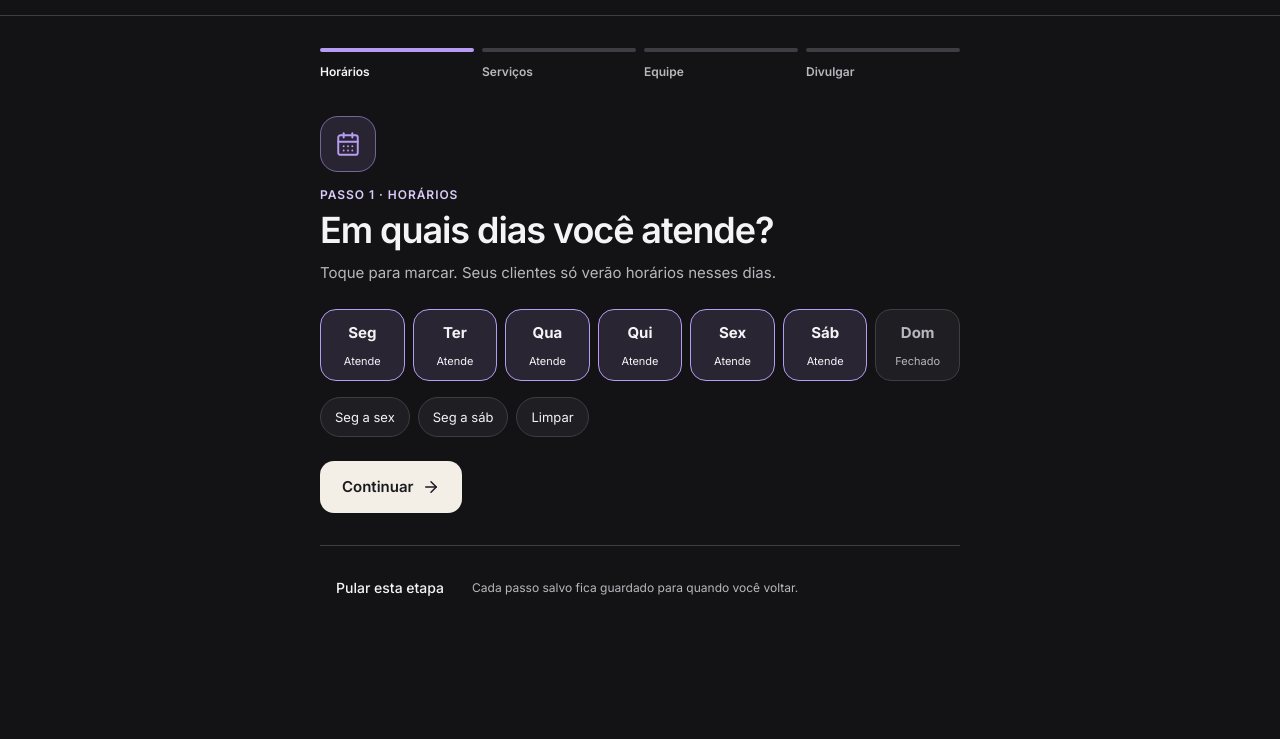
it: mantém os controles desabilitados enquanto aguarda a gravação
The image size is (1280, 739).
Click the button "Continuar": (391, 487) [320,461,462,513]
(page scrolled)
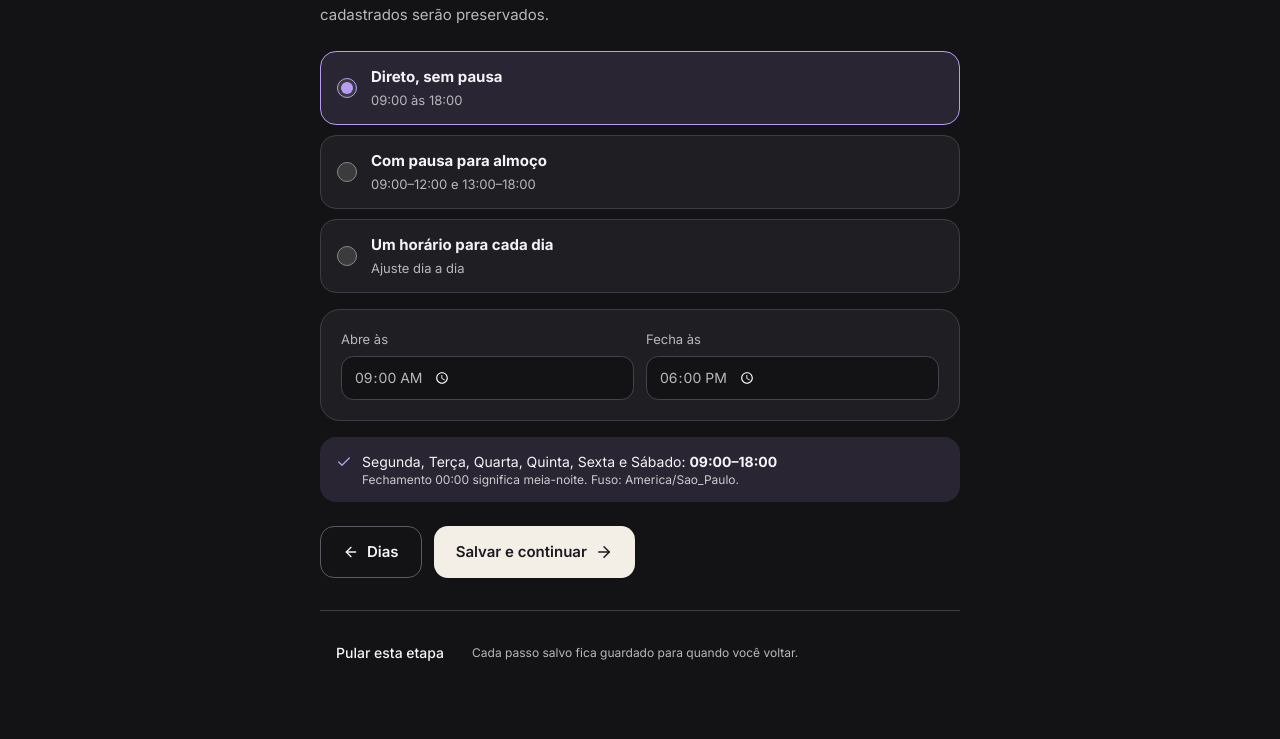
Click the button "Salvar e continuar": (534, 552) [434,526,635,578]
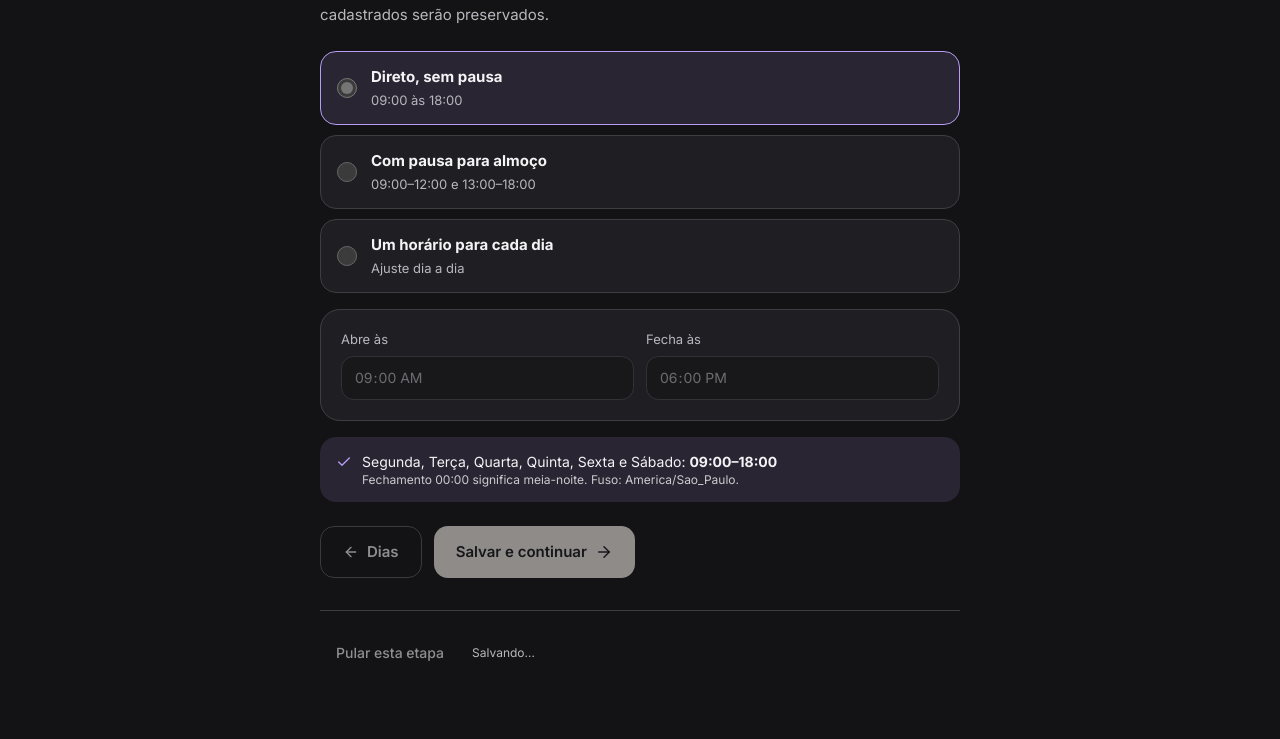
Check: the button "Salvar e continuar" is disabled
Click the button "Salvar e continuar": (534, 552) [434,526,635,578]
(page scrolled)
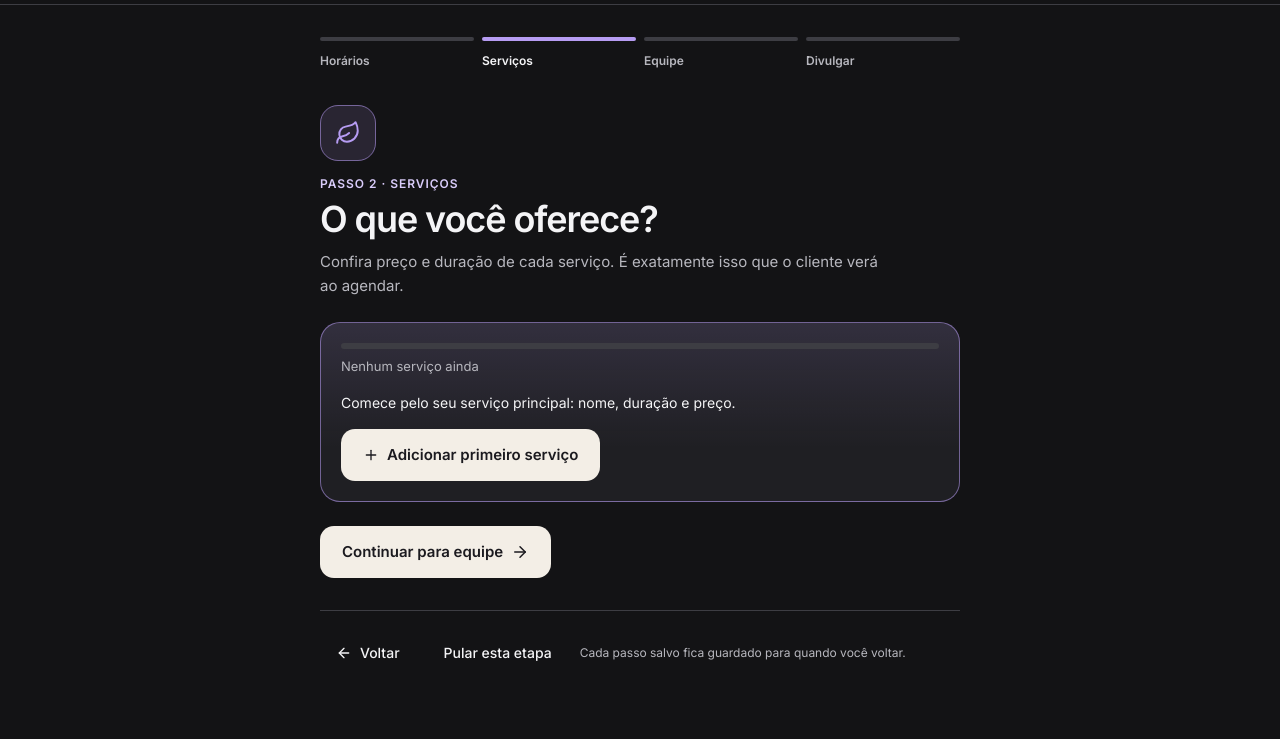
Check: the heading reads "O que você oferece?", box [320,197,658,241]
